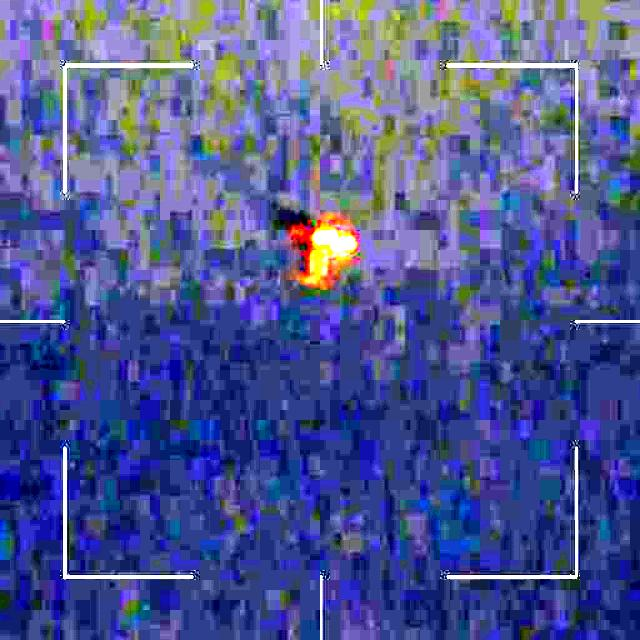bird: (269, 210, 362, 296)
